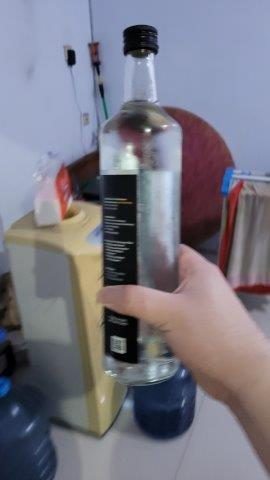botolkaca: (100, 24, 181, 383)
